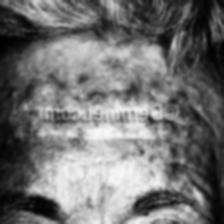Potentially Malignant Skin Tumors: (0, 125, 172, 166), (23, 74, 170, 106), (176, 96, 204, 168)
